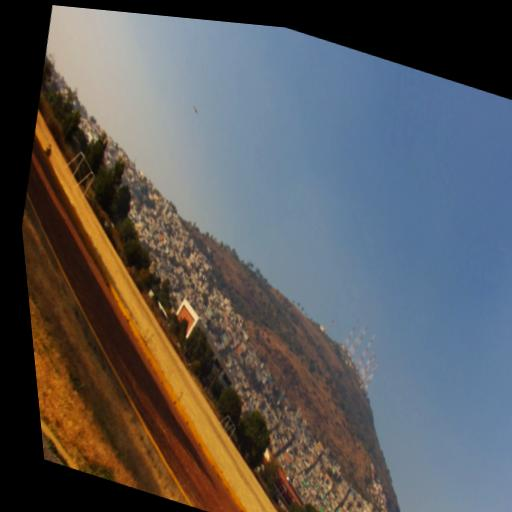drones: (191, 105, 201, 117)
